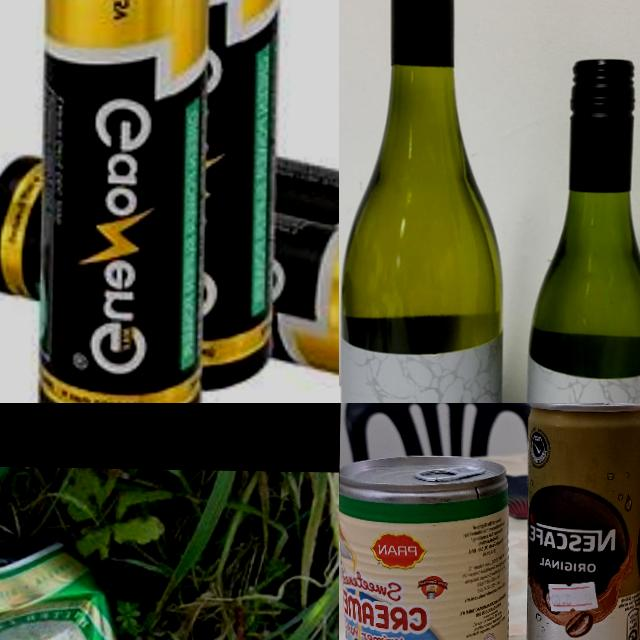aba de lata: (412, 461, 484, 486), (558, 403, 610, 410)
bateria: (30, 0, 285, 403), (0, 146, 339, 390)
garrafa de vidro: (339, 0, 510, 403), (524, 53, 640, 403)
lata: (339, 454, 511, 640), (522, 403, 640, 640)
